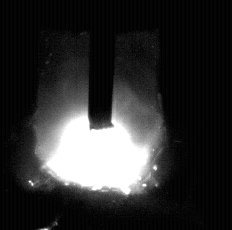arame: (88, 0, 114, 131)
poca: (35, 0, 166, 230)
